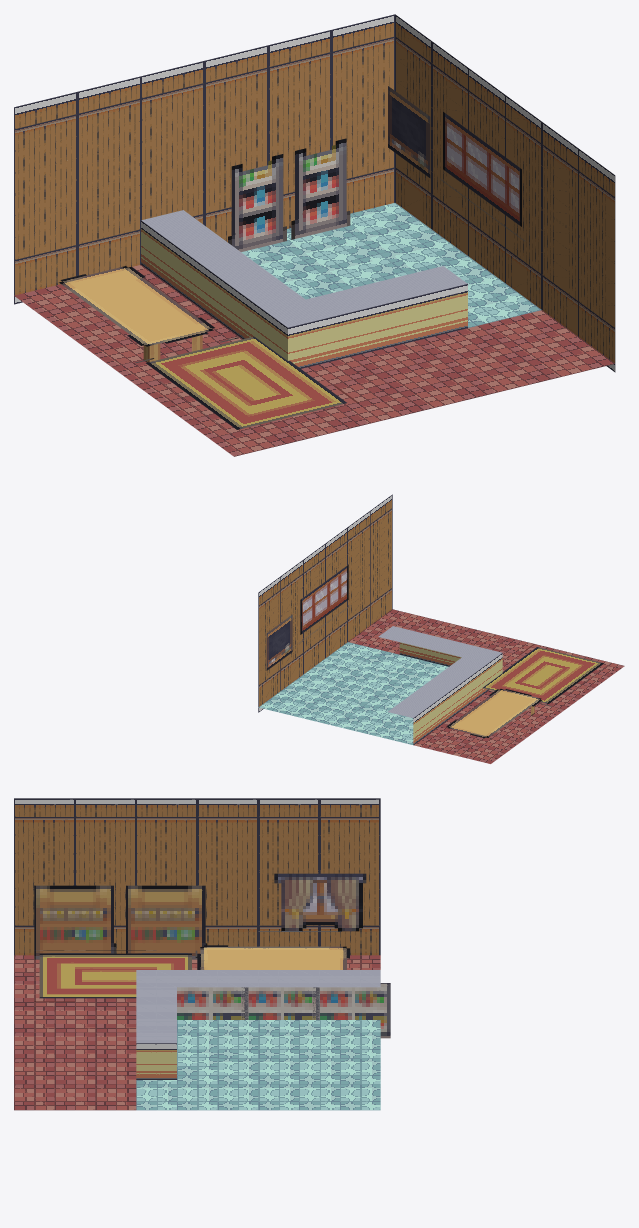
File: Kitchen.gltf
3 renders of one model, top to bottom at view 1: azimuth 30°, elevation 25°; view 2: azimuth 150°, elevation 25°; view 3: azimuth 270°, elevation 25°, orthographic. The views are drawn at different scales.
Visible parts, largest first — view 1: default, Wall (×2); view 2: default, Wall; view 3: default, Wall.
Part boxes in pixels (x1,y1,x2,y2): default: (14,86,614,456); Wall (×2): (14,14,615,372); default: (258,565,624,763); Wall: (258,494,392,712); default: (14,873,390,1110); Wall: (14,798,380,955).
Bounding box in the file's own units: 30 × 11.5 × 30.
2 materials, 2 textured.
